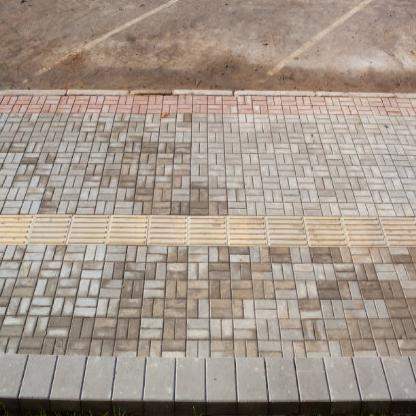podotacti: (0, 215, 416, 245)
